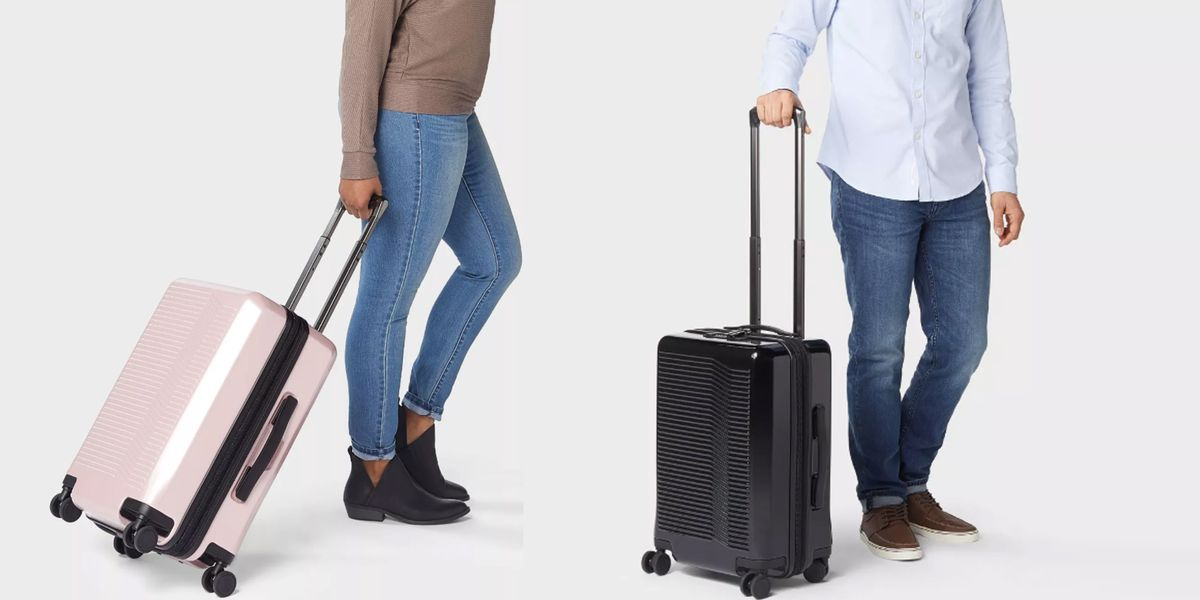luggage: (654, 144, 834, 595), (58, 277, 312, 581)
